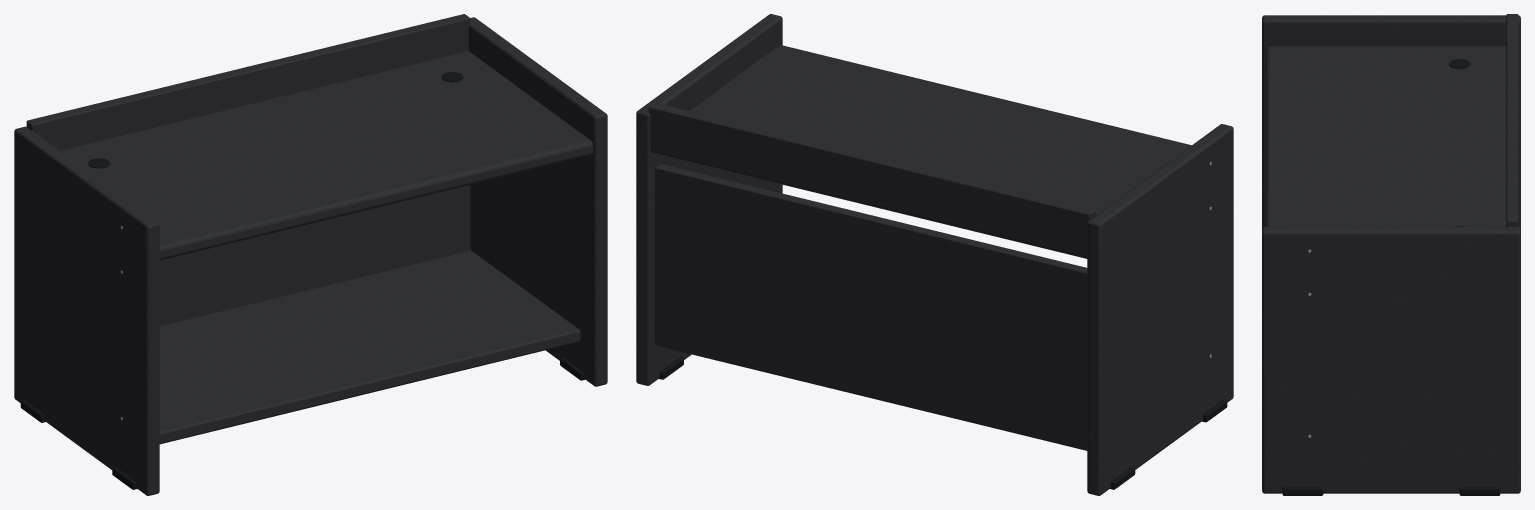
File: 06_sound_desk.glb
3 views of the same model, side by side, from view 1: azimuth 30°, elevation 25°; view 2: azimuth 150°, elevation 25°; view 3: azimuth 270°, elevation 25° (orthographic). The views are drawn at different scales.
Parts seen in each view (by area): view 1: 06_sound_desk__desktop, 06_sound_desk__bottom_shelf, 06_sound_desk__side_panel, 06_sound_desk__side_panel.001, 06_sound_desk__back_panel, 06_sound_desk__rear_raised_rail; view 2: 06_sound_desk__back_panel, 06_sound_desk__side_panel, 06_sound_desk__desktop, 06_sound_desk__rear_raised_rail, 06_sound_desk__side_panel.001, 06_sound_desk__bottom_shelf; view 3: 06_sound_desk__side_panel.001, 06_sound_desk__desktop, 06_sound_desk__side_panel, 06_sound_desk__rear_raised_rail, 06_sound_desk__rubber_foot.002, 06_sound_desk__rubber_foot.003.
Part boxes in pixels (box(x1,y1,x2,y2)): 06_sound_desk__desktop: box(60, 51, 593, 260); 06_sound_desk__bottom_shelf: box(159, 250, 580, 444); 06_sound_desk__side_panel: box(14, 126, 159, 495); 06_sound_desk__side_panel.001: box(468, 17, 607, 386); 06_sound_desk__back_panel: box(159, 185, 470, 326); 06_sound_desk__rear_raised_rail: box(26, 14, 470, 150); 06_sound_desk__back_panel: box(655, 164, 1087, 448); 06_sound_desk__side_panel: box(1087, 124, 1233, 495); 06_sound_desk__desktop: box(650, 45, 1191, 258); 06_sound_desk__rear_raised_rail: box(648, 102, 1095, 251); 06_sound_desk__side_panel.001: box(636, 14, 782, 385); 06_sound_desk__bottom_shelf: box(656, 344, 1087, 450); 06_sound_desk__side_panel.001: box(1262, 226, 1520, 493); 06_sound_desk__desktop: box(1265, 46, 1506, 226); 06_sound_desk__side_panel: box(1262, 15, 1520, 228); 06_sound_desk__rear_raised_rail: box(1506, 14, 1518, 226); 06_sound_desk__rubber_foot.002: box(1282, 487, 1323, 495); 06_sound_desk__rubber_foot.003: box(1459, 487, 1500, 495).
Size of the model in its own units: 1.54 by 0.8705 by 0.76.
3 materials, 3 textured.
